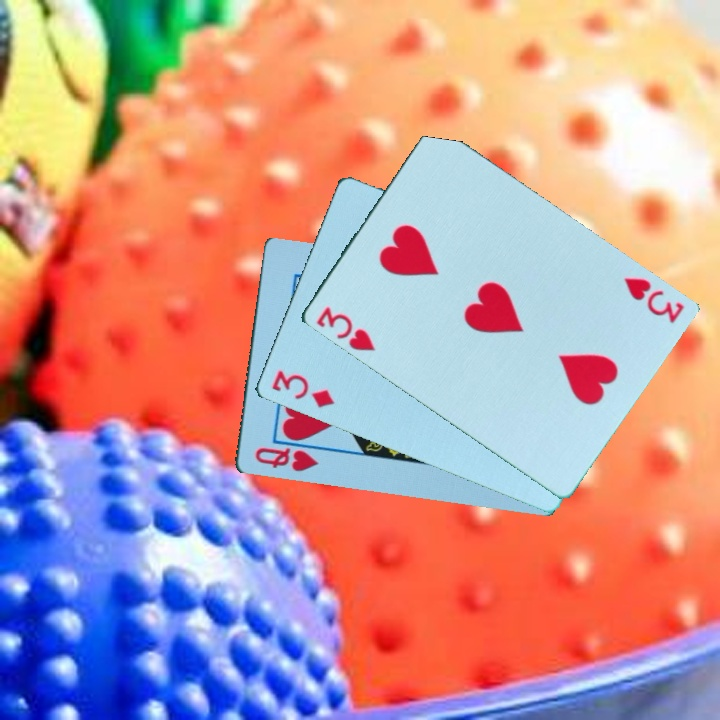3d: (268, 366, 337, 411)
3h: (619, 273, 687, 327), (311, 303, 378, 355)
Qh: (251, 444, 321, 475)
